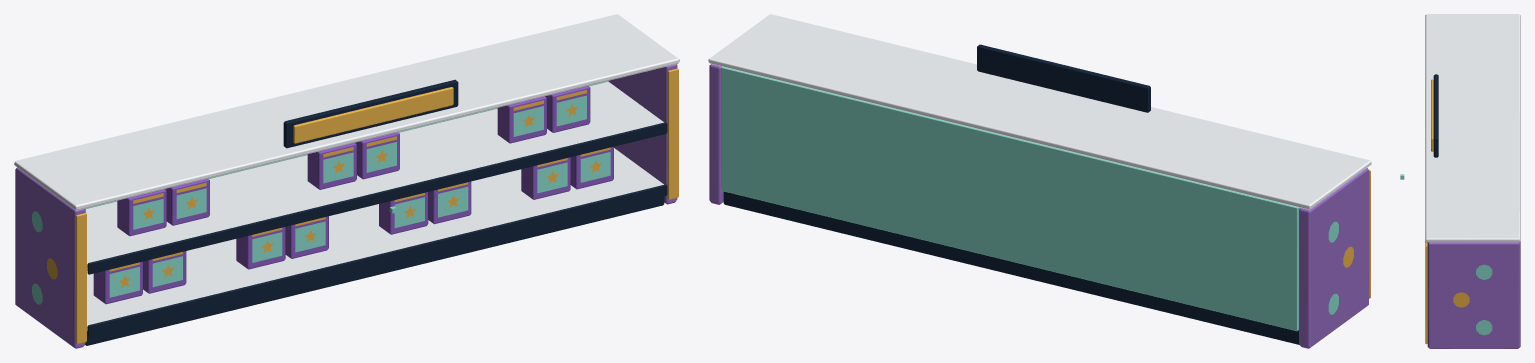
The model's file is CM_Fixture_ToyShelf.fbx.
3 views of the same model, side by side, from view 1: azimuth 30°, elevation 25°; view 2: azimuth 150°, elevation 25°; view 3: azimuth 270°, elevation 25° (orthographic). The views are drawn at different scales.
Visible parts, largest first — view 1: Body, Item7, Item5, Item6, Item1, Item2, Item4, PriceTag, Item3; view 2: Body; view 3: Body, PriceTag.
Boxes of the visible parts, left/top/right/bottom form: Body: left=14, top=14, right=679, bottom=348; Item7: left=497, top=86, right=590, bottom=143; Item5: left=117, top=178, right=209, bottom=236; Item6: left=307, top=132, right=399, bottom=189; Item1: left=93, top=251, right=186, bottom=304; Item2: left=236, top=216, right=328, bottom=269; Item4: left=521, top=146, right=613, bottom=199; PriceTag: left=293, top=87, right=453, bottom=143; Item3: left=379, top=181, right=471, bottom=234; Body: left=708, top=14, right=1371, bottom=348; Body: left=1425, top=14, right=1520, bottom=348; PriceTag: left=1431, top=79, right=1433, bottom=151.
Size of the model in its own units: 28 by 6.3 by 7.6.
1 material, 1 textured.
